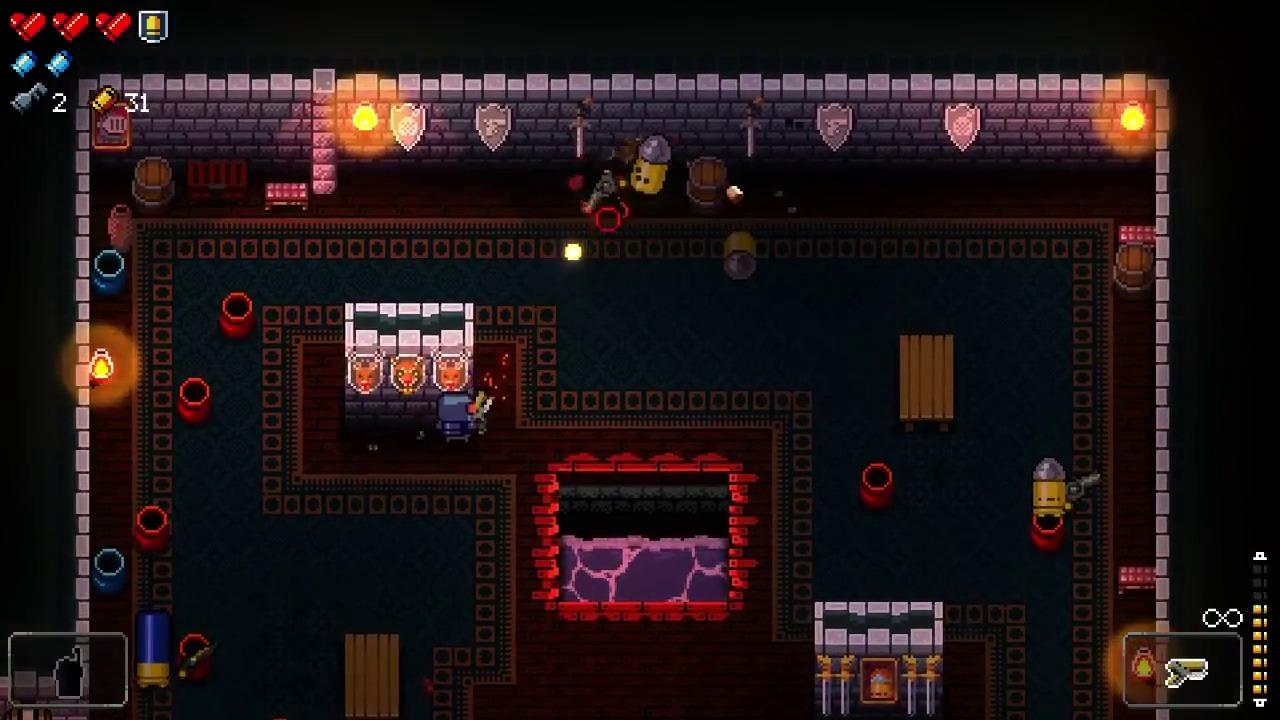blue_shotgun_kin: (133, 611, 171, 687)
bullet_kin: (632, 132, 671, 196), (1033, 457, 1067, 518)
dead_bullet_kin: (724, 231, 756, 279)
player: (437, 394, 478, 444)
table: (899, 334, 954, 434), (343, 634, 400, 720)
water_pit: (531, 449, 761, 622)
